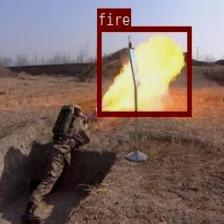fire: (97, 26, 190, 115)
